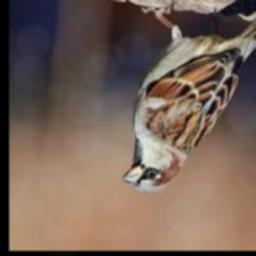Sparrow: (123, 0, 256, 193)
